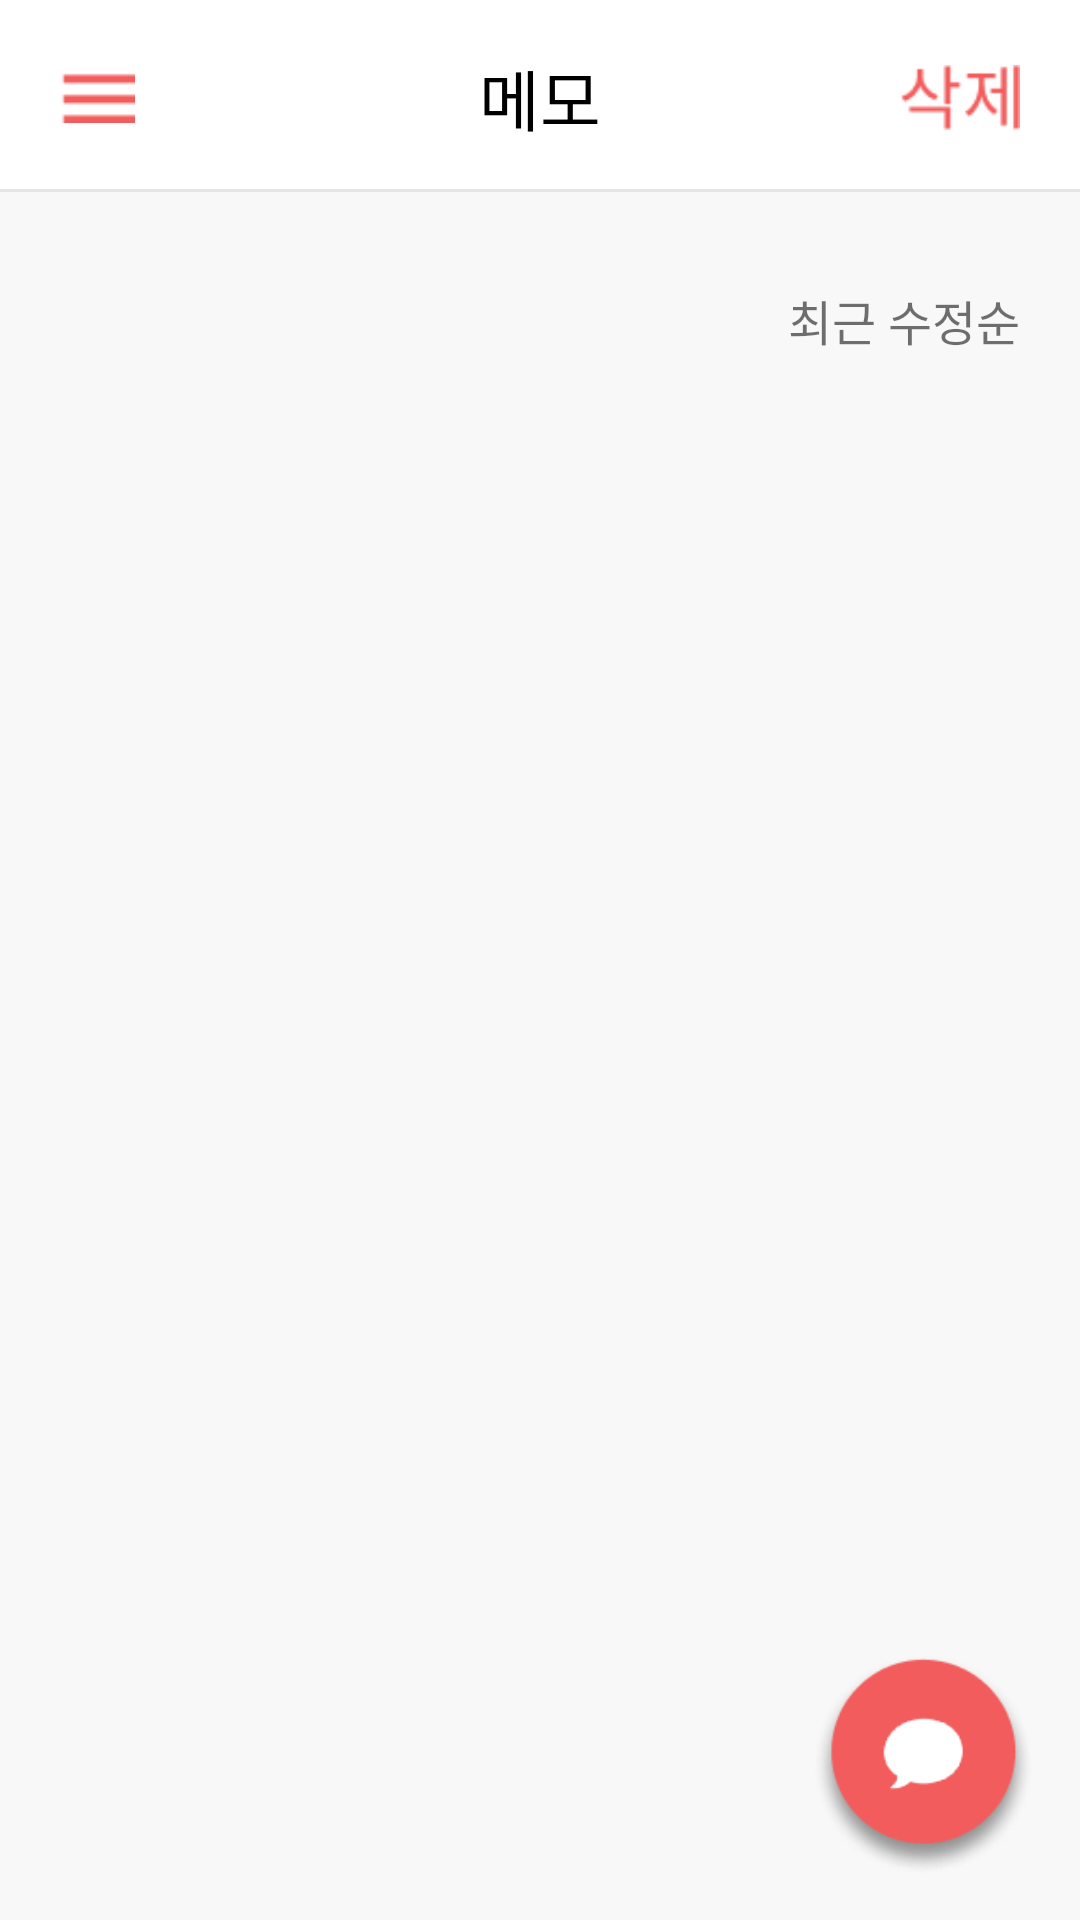

Locate icon controls on the screen. Image size 1080*1920, boxes as bbox=(x1, y1, x2, y2).
drawer: bbox=(62, 74, 135, 123)
